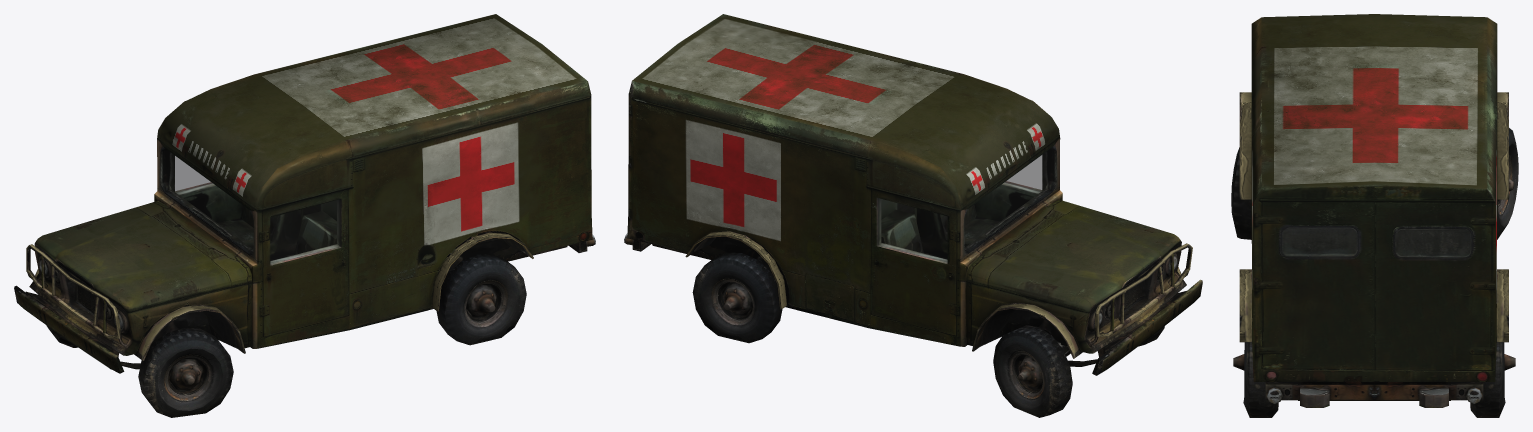
File: retextured_m725_military_ambulance.glb
3 renders of one model, left to right at view 1: azimuth 30°, elevation 25°; view 2: azimuth 150°, elevation 25°; view 3: azimuth 270°, elevation 25°, orthographic. The views are drawn at different scales.
Visible parts, largest first — view 1: Object003_Material #24_0, Object003.001_Material.001_0; view 2: Object003_Material #24_0, Object003.001_Material.001_0; view 3: Object003_Material #24_0.
Part boxes in pixels (left/top/right/bottom): Object003_Material #24_0: left=14, top=14, right=595, bottom=417; Object003.001_Material.001_0: left=163, top=149, right=338, bottom=262; Object003_Material #24_0: left=624, top=14, right=1202, bottom=417; Object003.001_Material.001_0: left=878, top=148, right=1054, bottom=261; Object003_Material #24_0: left=1231, top=14, right=1518, bottom=417.
Size of the model in its own units: 5.02 by 2.25 by 2.04.
Materials: 2 (1 with a texture image).
